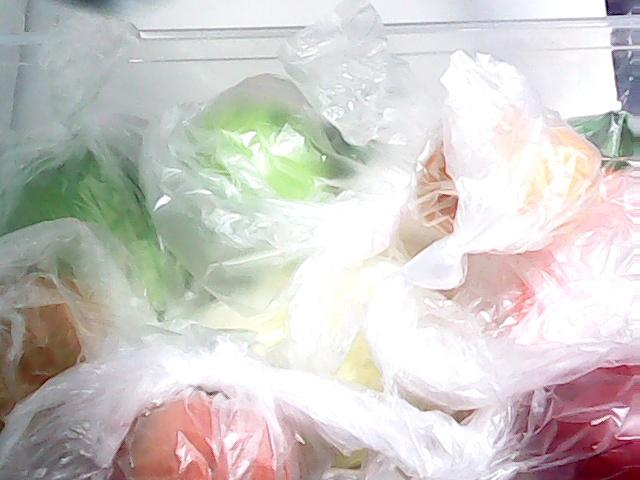apple: (150, 103, 330, 269), (494, 356, 640, 480)
cabbage: (5, 120, 215, 320)
carrot: (511, 111, 640, 338)
napa cabbage: (102, 242, 452, 422)
peach: (107, 384, 317, 480)
potato: (0, 280, 111, 432)
radish: (322, 104, 452, 258)
